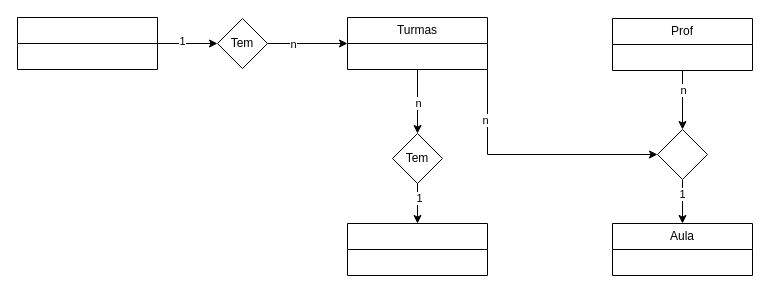
Some shapes in this 770 by 293 pixel diagram are drawn without their labels. Each missing label, with the centre of its shape:
"Escola" goes at [87,43].
"Mini" goes at [682,154].
"Sala" goes at [417,249].
